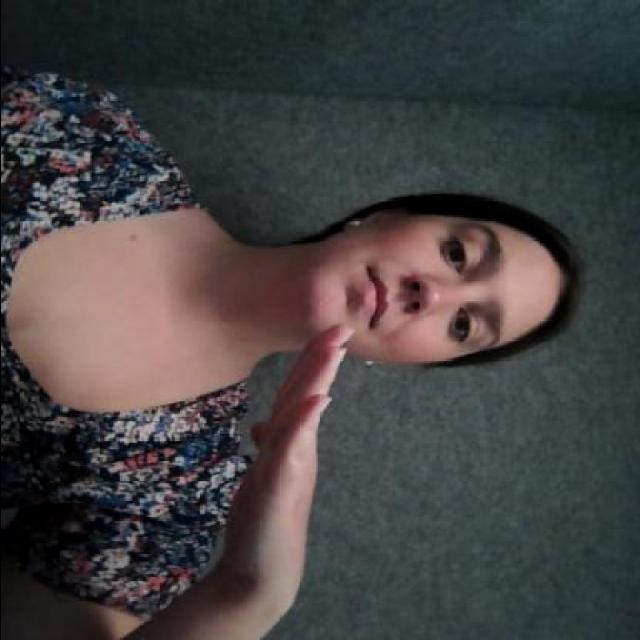Paper: (205, 316, 362, 616)
